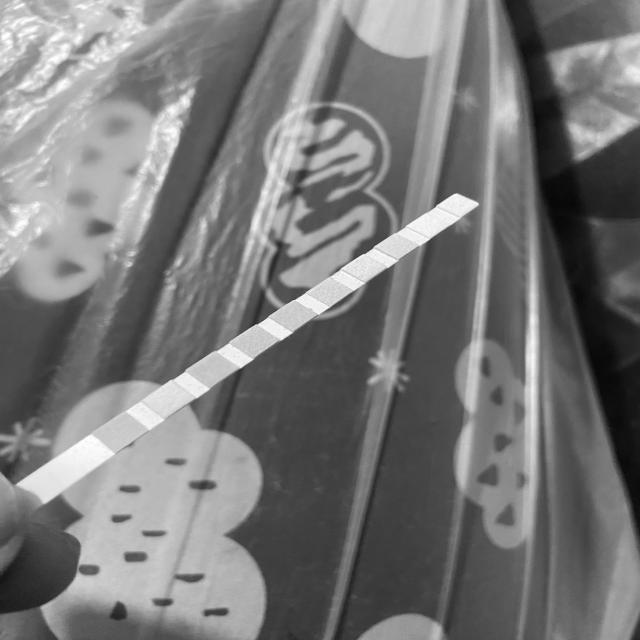Bilirubin: (154, 392, 180, 409)
Blood: (282, 308, 305, 323)
Glucose: (108, 424, 132, 441)
Ketone: (200, 362, 224, 379)
Leukocytes: (447, 199, 469, 211)
Nitrite: (416, 219, 438, 232)
Protein: (353, 261, 375, 276)
SpGravity: (242, 333, 268, 350)
Urobilinogen: (385, 239, 407, 254)
background: (0, 0, 640, 640)
pH: (318, 284, 341, 300)
strip: (18, 193, 481, 505)
